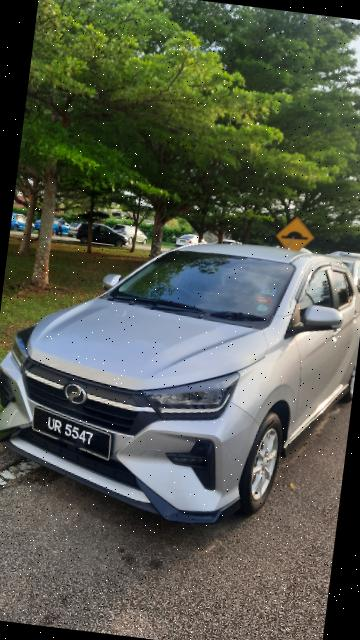License_Plate: (29, 407, 115, 461), (180, 240, 186, 243)
car: (1, 215, 358, 527), (321, 249, 360, 290), (75, 222, 131, 250), (109, 224, 149, 246), (35, 217, 73, 237), (176, 233, 209, 251), (11, 213, 37, 234)
